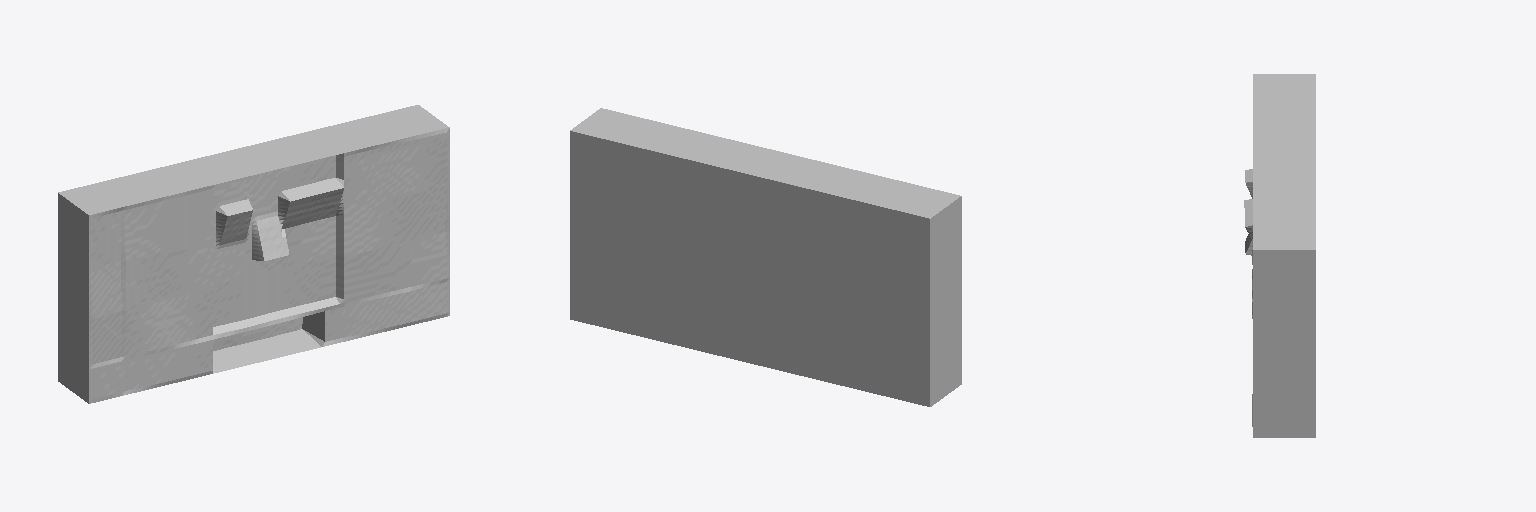
The model's file is rectangular_prism_bumps_7_1.obj.
The picture shows the model from 3 angles: view 1: azimuth 30°, elevation 25°; view 2: azimuth 150°, elevation 25°; view 3: azimuth 270°, elevation 25°; orthographic projection.
Size of the model in its own units: 10 by 5 by 1.72.